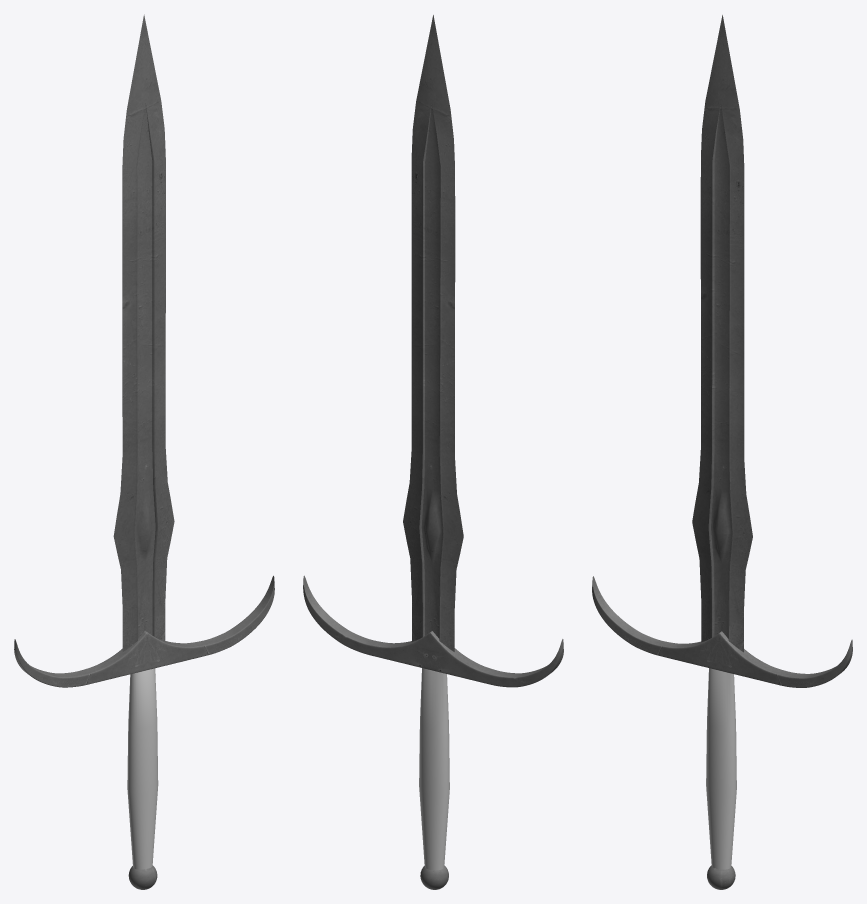
The model's file is Sword.fbx.
3 renders of one model, left to right at view 1: azimuth 30°, elevation 25°; view 2: azimuth 150°, elevation 25°; view 3: azimuth 330°, elevation 25°, orthographic.
Visible parts, largest first — view 1: Plane, Cylinder, Plane.002, Sphere; view 2: Plane, Cylinder, Plane.002, Sphere; view 3: Plane, Cylinder, Plane.002, Sphere.
Part boxes in pixels (<box>): Plane: <box>113,14,174,651</box>; Cylinder: <box>127,668,158,869</box>; Plane.002: <box>14,575,274,687</box>; Sphere: <box>128,865,157,889</box>; Plane: <box>403,15,463,651</box>; Cylinder: <box>419,668,449,870</box>; Plane.002: <box>303,575,563,687</box>; Sphere: <box>420,865,448,889</box>; Plane: <box>692,15,752,652</box>; Cylinder: <box>706,668,736,869</box>; Plane.002: <box>592,576,852,687</box>; Sphere: <box>707,865,735,889</box>.
Bounding box in the file's own units: 86.29 × 278 × 8.26.
